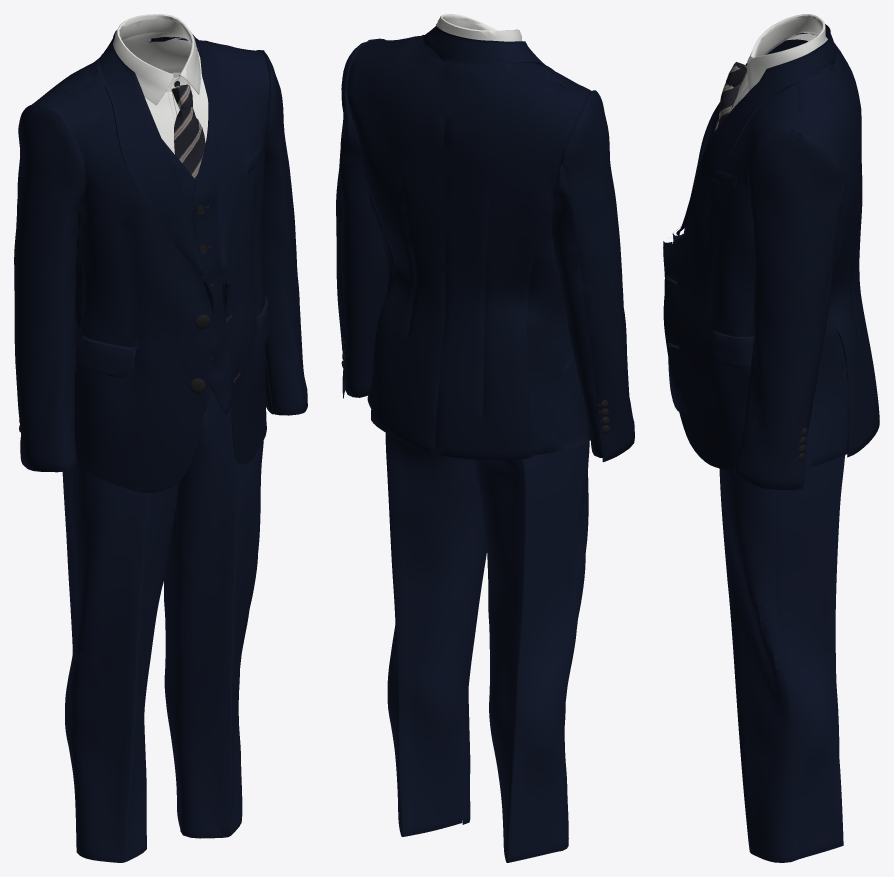
File: MW_Tailleur_suit_v4_SHAWL_step1.glb
The picture shows the model from 3 angles, left to right: view 1: azimuth 30°, elevation 25°; view 2: azimuth 150°, elevation 25°; view 3: azimuth 270°, elevation 25°; orthographic projection. The views are drawn at different scales.
Visible parts, largest first — view 1: Jacket, Trousers, Shirt, Waistcoat, Tie, Trim; view 2: Jacket, Trousers, Shirt; view 3: Jacket, Trousers, Shirt, Tie.
Boxes of the visible parts, bbox=[...] form: Jacket: bbox=[14, 30, 307, 492]; Trousers: bbox=[62, 383, 263, 862]; Shirt: bbox=[113, 14, 208, 154]; Waistcoat: bbox=[75, 42, 231, 413]; Tie: bbox=[172, 84, 205, 179]; Trim: bbox=[19, 81, 210, 432]; Jacket: bbox=[336, 23, 634, 462]; Trousers: bbox=[385, 339, 589, 862]; Shirt: bbox=[436, 14, 522, 41]; Jacket: bbox=[663, 24, 879, 489]; Trousers: bbox=[719, 455, 845, 862]; Shirt: bbox=[715, 14, 827, 130]; Tie: bbox=[717, 62, 746, 127].
Size of the model in its own units: 0.5389 by 1.5 by 0.3678.
Materials: 8 (4 with a texture image).
